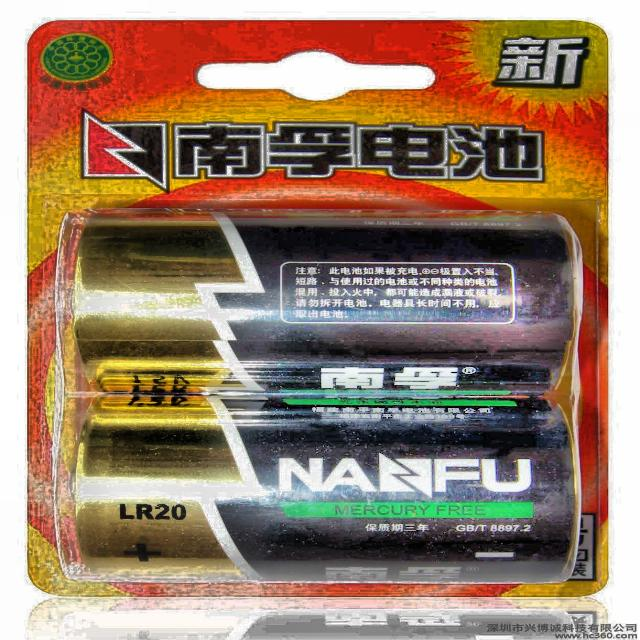Non-Valuable Waste - Batteries: (62, 210, 581, 395), (65, 398, 579, 582)
